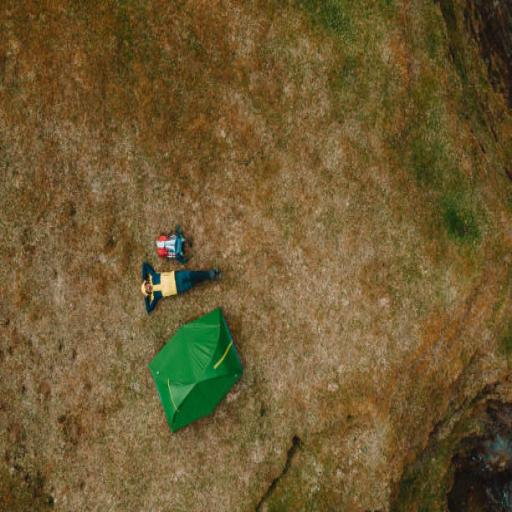Tent: (147, 312, 245, 436)
